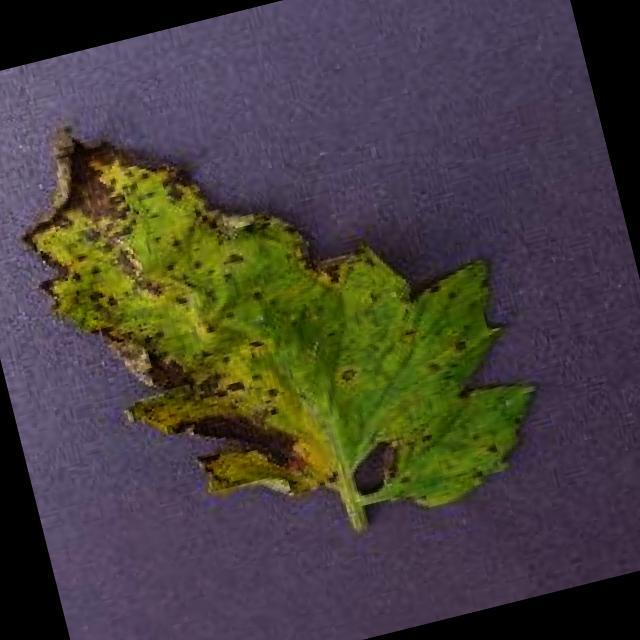Tomato Septoria spot leaf: (0, 25, 569, 594)
